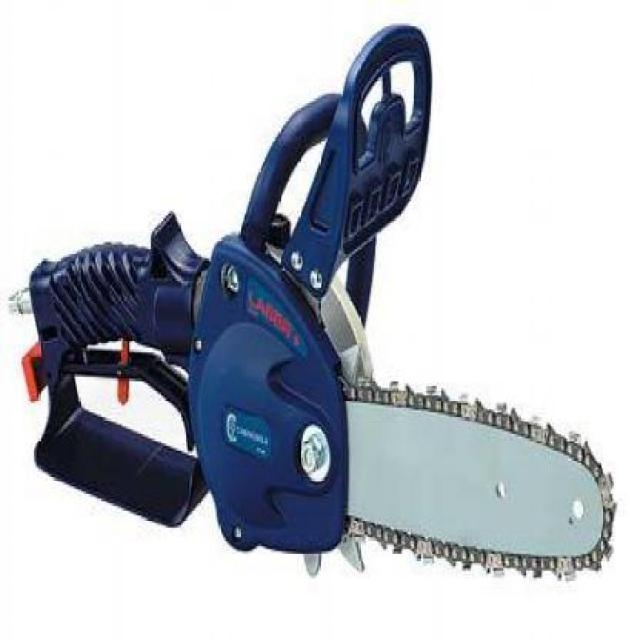Chainsaw: (1, 17, 634, 589)
